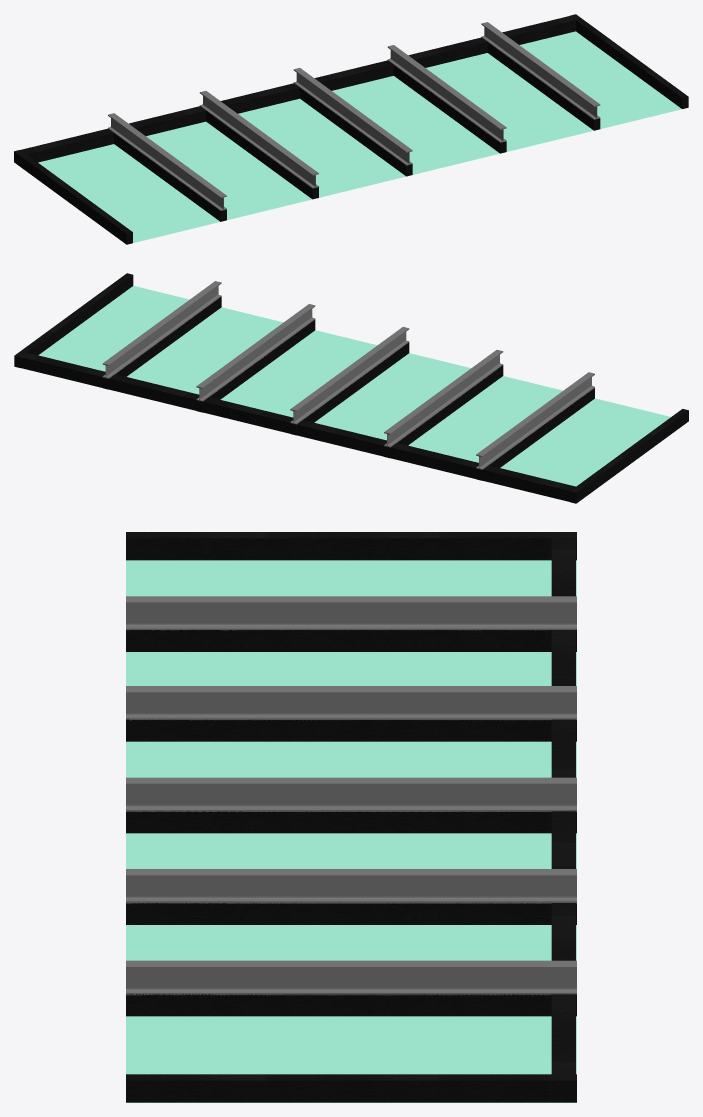
Rendered from glass-windows.obj.
3 renders of one model, top to bottom at view 1: azimuth 30°, elevation 25°; view 2: azimuth 150°, elevation 25°; view 3: azimuth 270°, elevation 25°, orthographic. The views are drawn at different scales.
Size of the model in its own units: 7.49 by 0.315 by 2.6.
Materials: 19 (8 with a texture image).
